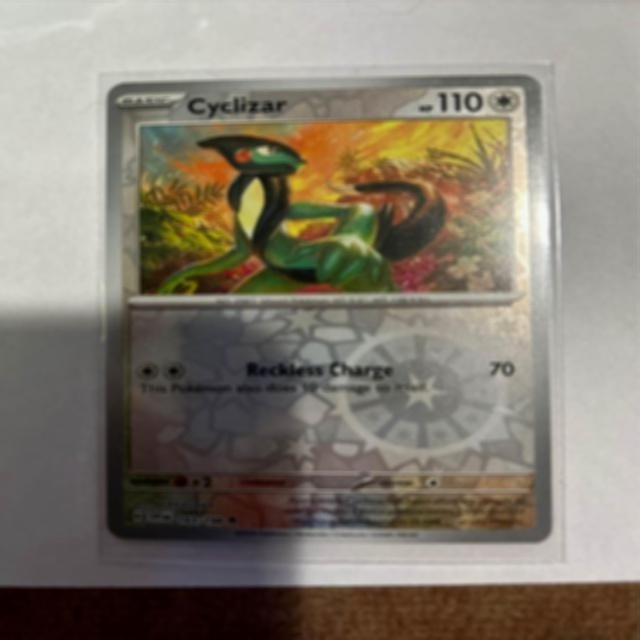card: (104, 74, 554, 544)
